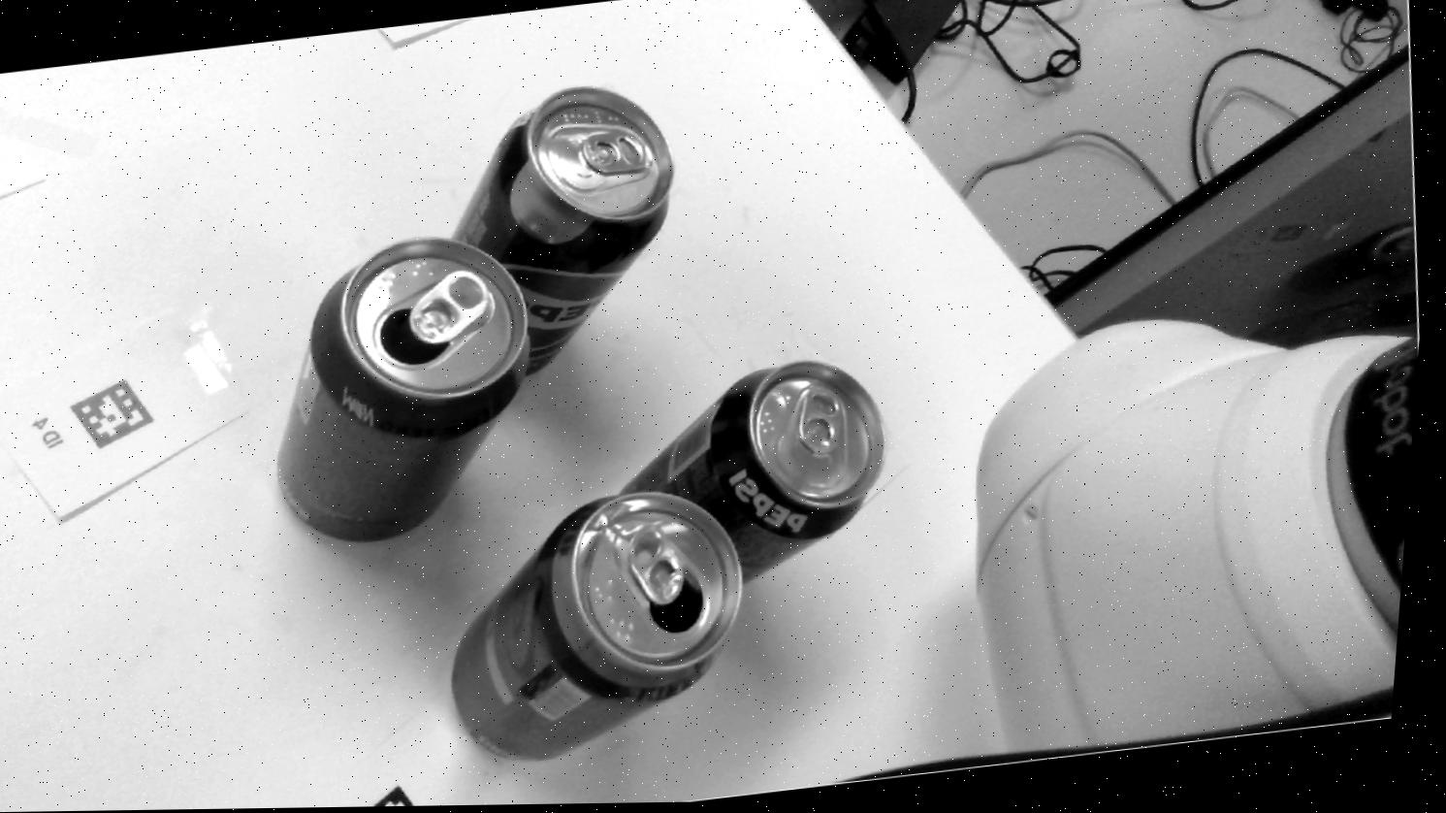can_coke_decaf: (452, 493, 740, 758)
can_coke_zero: (278, 238, 527, 540)
can_pepsi: (622, 361, 883, 581)
can_pepsi_zero: (455, 88, 672, 371)
